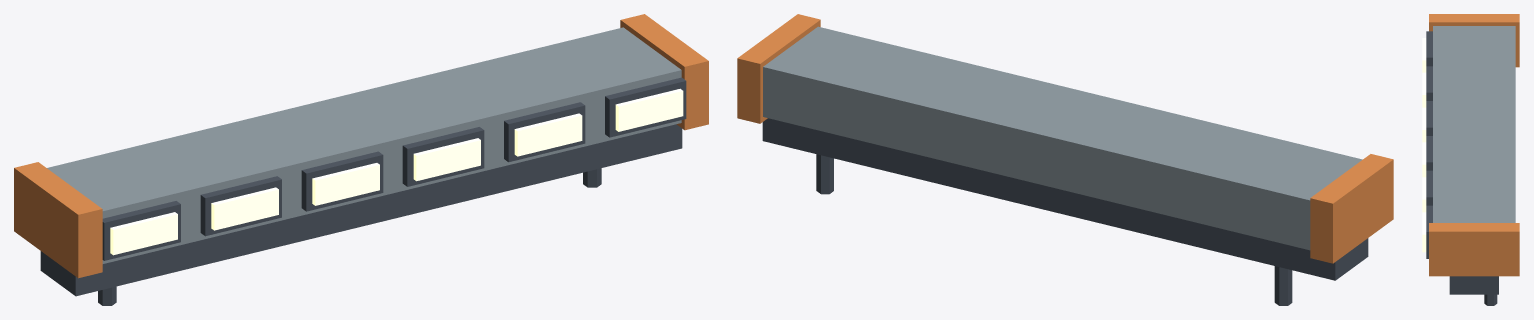
Rendered from sub_floodlight_bar.glb.
3 views of the same model, side by side, from view 1: azimuth 30°, elevation 25°; view 2: azimuth 150°, elevation 25°; view 3: azimuth 270°, elevation 25° (orthographic). The views are drawn at different scales.
Parts seen in each view (by area): view 1: sub_floodlight_bar_hull, sub_floodlight_bar_dark, sub_floodlight_bar_warm, sub_floodlight_bar_accent; view 2: sub_floodlight_bar_hull, sub_floodlight_bar_dark, sub_floodlight_bar_accent; view 3: sub_floodlight_bar_hull, sub_floodlight_bar_accent, sub_floodlight_bar_dark, sub_floodlight_bar_warm.
Part boxes in pixels (box(x1,y1,x2,y2)): sub_floodlight_bar_hull: box(47, 27, 681, 263); sub_floodlight_bar_dark: box(40, 77, 686, 305); sub_floodlight_bar_warm: box(110, 88, 683, 255); sub_floodlight_bar_accent: box(14, 14, 708, 278); sub_floodlight_bar_hull: box(763, 26, 1362, 250); sub_floodlight_bar_dark: box(762, 118, 1368, 305); sub_floodlight_bar_accent: box(737, 14, 1393, 263); sub_floodlight_bar_hull: box(1433, 26, 1515, 222); sub_floodlight_bar_accent: box(1429, 14, 1519, 276); sub_floodlight_bar_dark: box(1426, 31, 1498, 305); sub_floodlight_bar_warm: box(1422, 38, 1426, 252).
Bounding box in the file's own units: 3.12 × 0.65 × 0.59.
